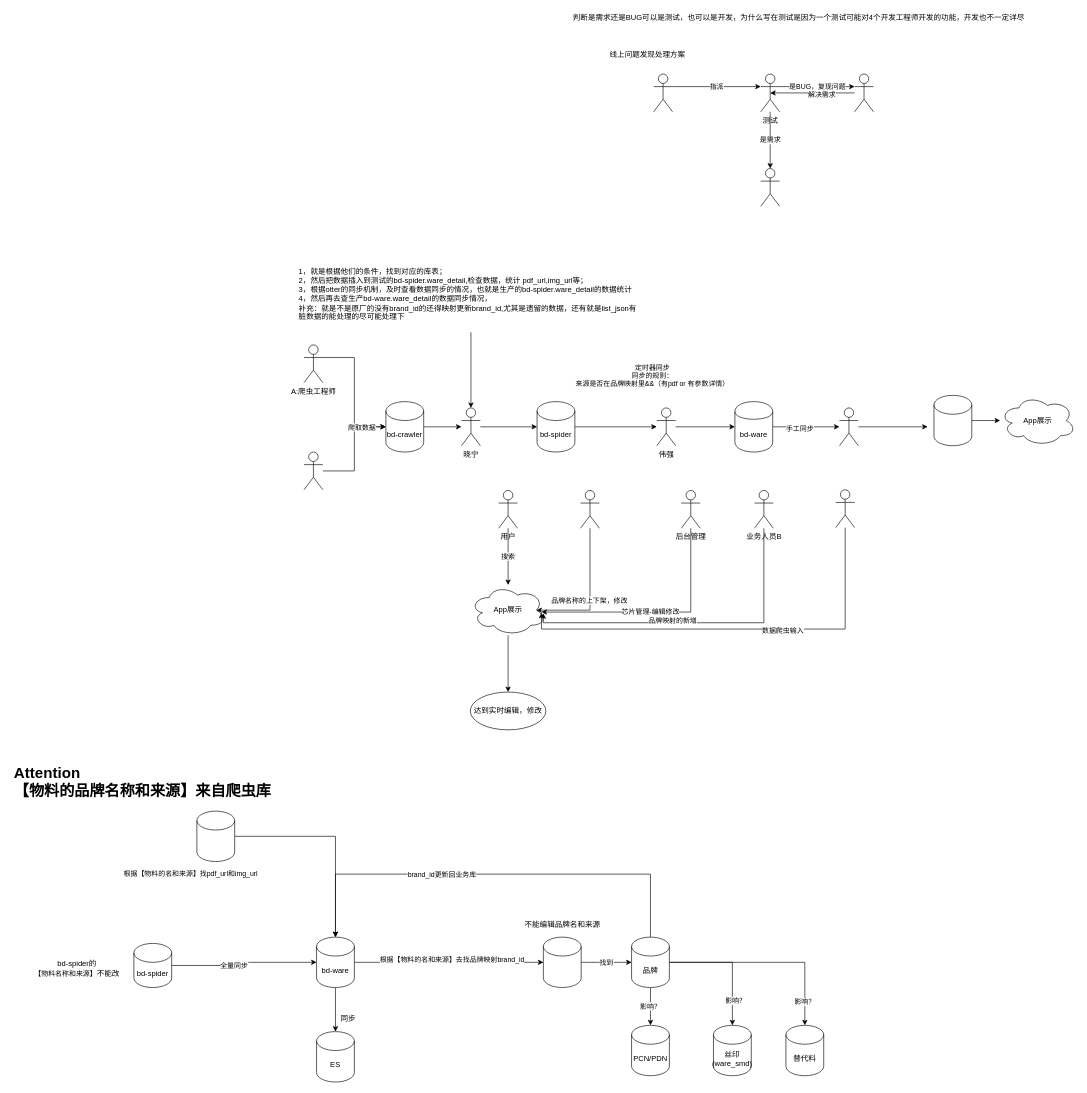
Some shapes in this 1087 by 1093 pixel diagram are drawn without their labels. The shapes that lost their labels are listed below. From the top down, each one's centre as x and y in pixels, then its label:
At point 663,92: "业务人员".
At point 863,92: "开发".
At point 770,187: "产品".
At point 848,426: "启豪".
At point 952,420: "搜索引擎".
At point 313,470: "B:爬虫工程师".
At point 589,509: "业务人员A".
At point 845,508: "爬虫数据输入".
At point 215,836: "网盘".
At point 562,962: "品牌映射".
